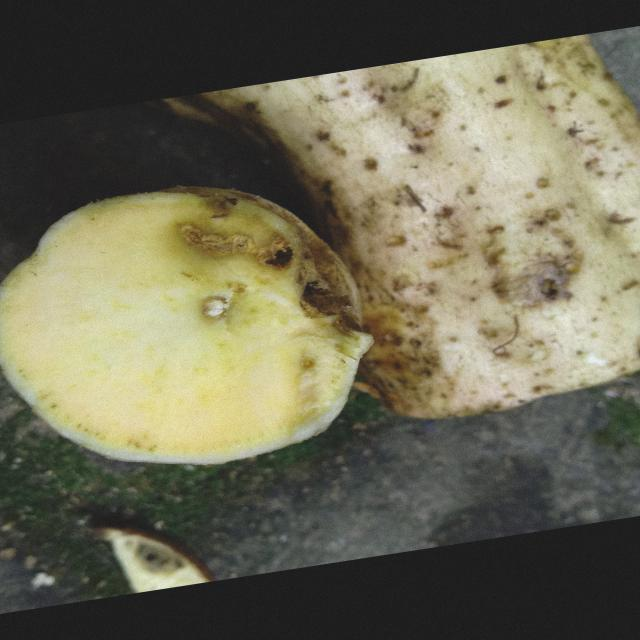Sick Sweet Potato_Tuber Rot: (2, 188, 372, 464)
